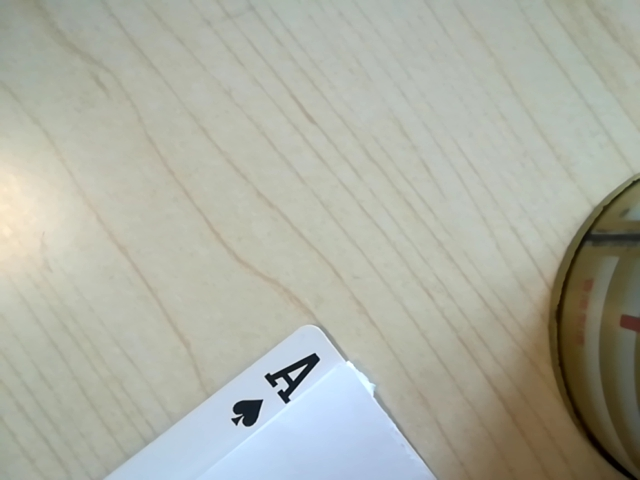ht a: (218, 345, 336, 431)
